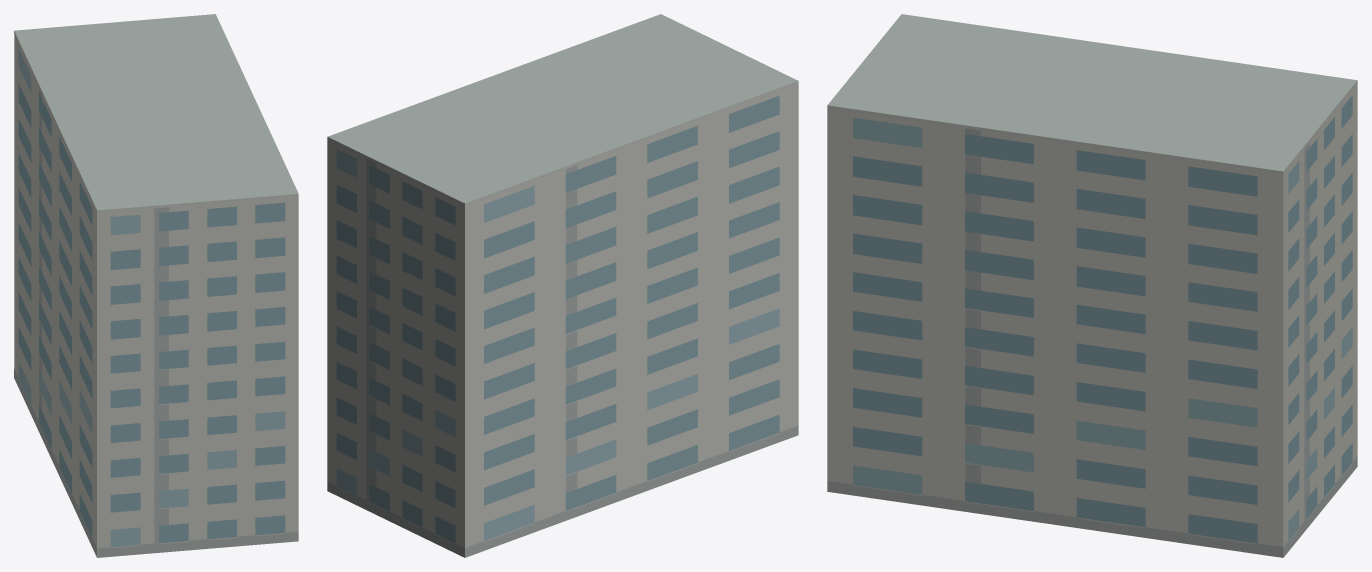
The model's file is residential-2cc7ada9-9438-4146-9323-ffb96d8df869.glb.
3 views of the same model, side by side, from view 1: azimuth 30°, elevation 25°; view 2: azimuth 150°, elevation 25°; view 3: azimuth 270°, elevation 25° (orthographic). The views are drawn at different scales.
Visible parts, largest first — view 1: residential-2cc7ada9-9438-4146-9323-ffb96d8df869.tmp; view 2: residential-2cc7ada9-9438-4146-9323-ffb96d8df869.tmp; view 3: residential-2cc7ada9-9438-4146-9323-ffb96d8df869.tmp.
Boxes of the visible parts, x1=… form: residential-2cc7ada9-9438-4146-9323-ffb96d8df869.tmp: x1=14, y1=14, x2=298, y2=557; residential-2cc7ada9-9438-4146-9323-ffb96d8df869.tmp: x1=327, y1=14, x2=798, y2=557; residential-2cc7ada9-9438-4146-9323-ffb96d8df869.tmp: x1=827, y1=14, x2=1357, y2=557.
Bounding box in the file's own units: 27.11 × 31 × 38.56.
